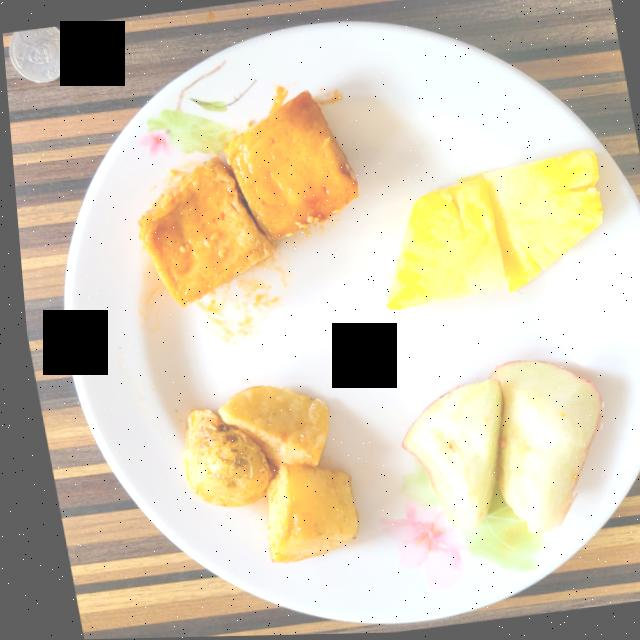coin: (8, 25, 69, 82)
creamy tofu: (134, 91, 355, 306)
fried potato: (174, 385, 349, 562)
pineapple: (381, 150, 598, 310)
